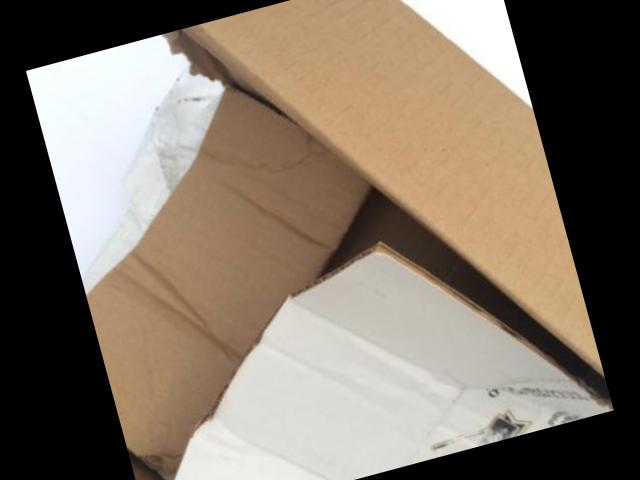cardboard paper: (86, 0, 614, 480)
